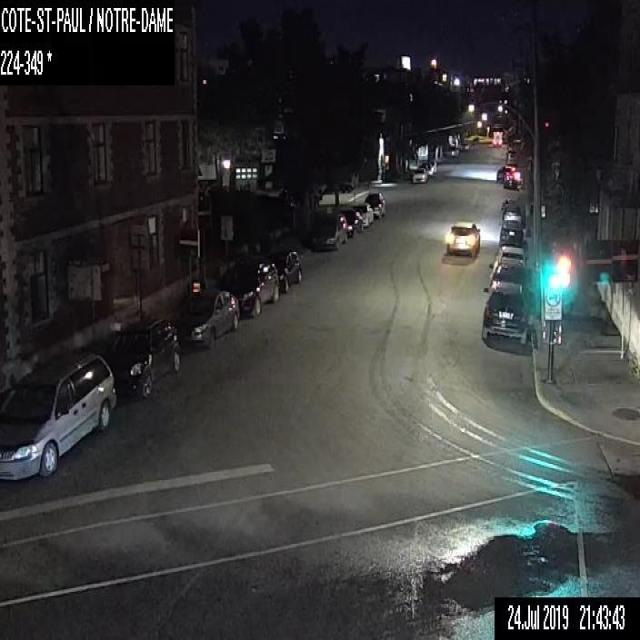vehicle: (0, 352, 115, 483), (99, 317, 179, 398), (173, 290, 238, 347), (480, 279, 529, 345), (227, 261, 278, 315), (264, 250, 302, 292), (314, 212, 346, 250), (445, 221, 479, 256), (488, 260, 526, 287), (498, 213, 523, 246), (496, 244, 524, 269), (362, 191, 385, 219), (343, 210, 362, 237), (354, 203, 372, 226), (496, 164, 515, 181), (503, 170, 520, 188), (412, 167, 427, 182), (502, 206, 518, 220), (501, 198, 517, 209), (492, 130, 502, 147), (421, 161, 432, 175), (430, 159, 436, 172)
